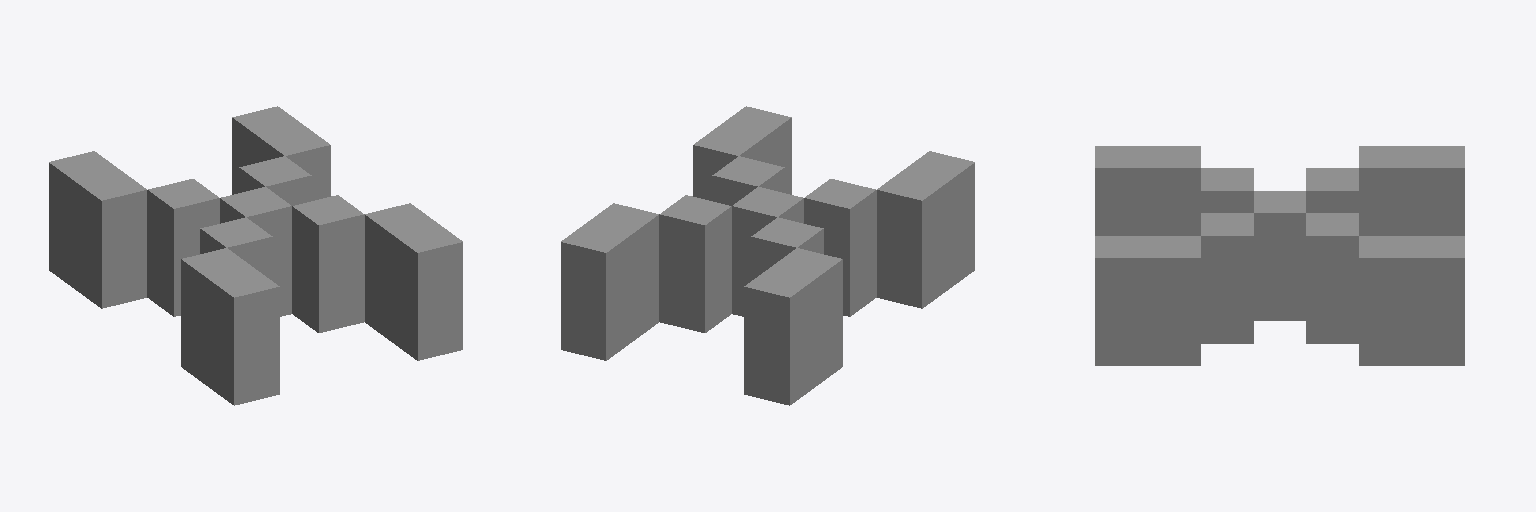
3 renders of one model, left to right at view 1: azimuth 30°, elevation 25°; view 2: azimuth 150°, elevation 25°; view 3: azimuth 270°, elevation 25°, orthographic.
Parts seen in each view (by area): view 1: X_CUABC.024; view 2: X_CUABC.024; view 3: X_CUABC.024.
Boxes of the visible parts, x1,y1,x2,y2 form: X_CUABC.024: [49, 106, 462, 405]; X_CUABC.024: [561, 106, 974, 405]; X_CUABC.024: [1095, 146, 1464, 365].
Bounding box in the file's own units: 0.5556 × 0.25 × 0.7778.